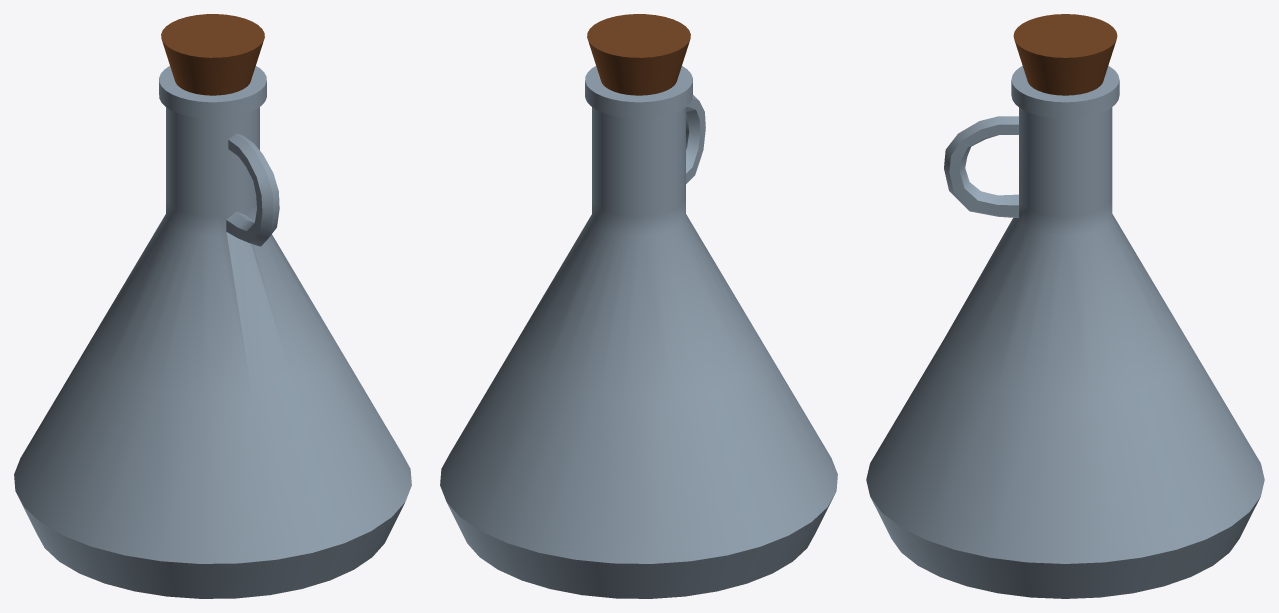
File: potion.fbx
3 views of the same model, side by side, from view 1: azimuth 30°, elevation 25°; view 2: azimuth 150°, elevation 25°; view 3: azimuth 270°, elevation 25° (orthographic).
Visible parts, largest first — view 1: Potion; view 2: Potion; view 3: Potion.
Boxes of the visible parts, <box> form: Potion: <box>14,14,411,598</box>; Potion: <box>440,14,837,598</box>; Potion: <box>866,14,1264,598</box>.
Bounding box in the file's own units: 0.8206 × 0.8206 × 1.11.
